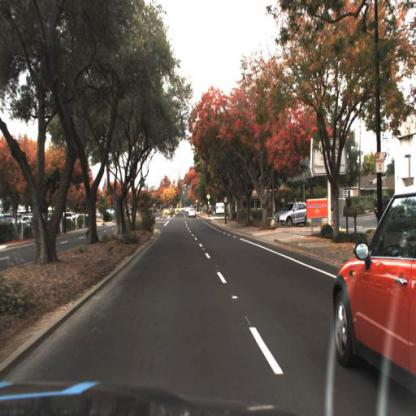car: (324, 183, 416, 395), (273, 197, 313, 230), (188, 206, 198, 221)
